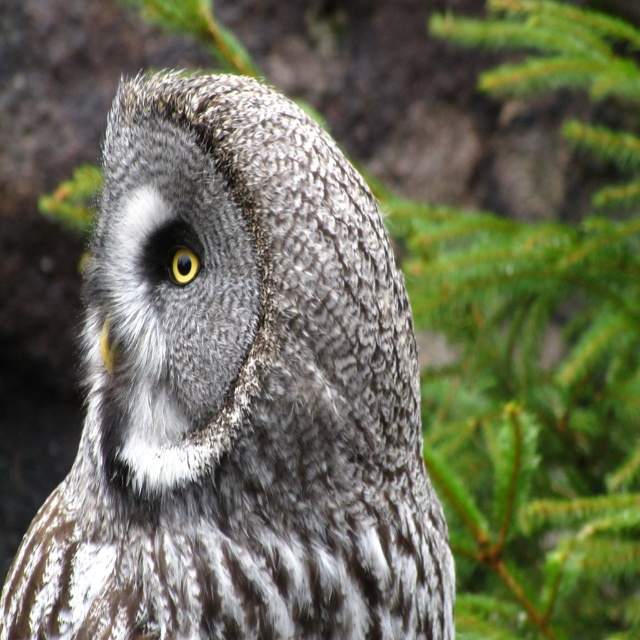Owl: (0, 66, 456, 640)
